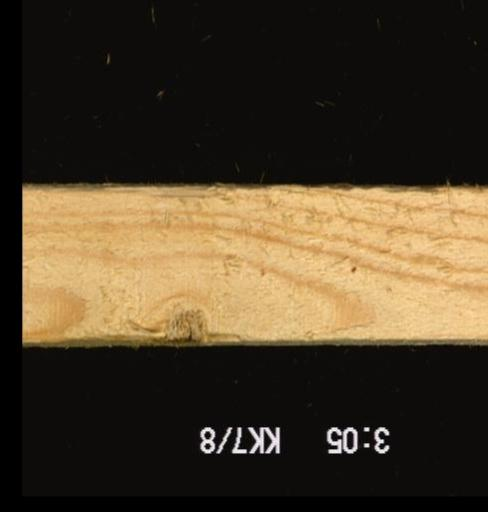edge_knot: (144, 290, 204, 344)
wave: (107, 181, 265, 204)
